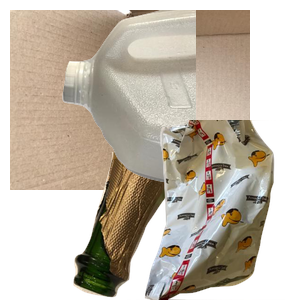cardboard: (10, 10, 250, 190)
glass: (71, 152, 260, 300)
plastic: (60, 10, 300, 190)
trash: (127, 120, 300, 300)
